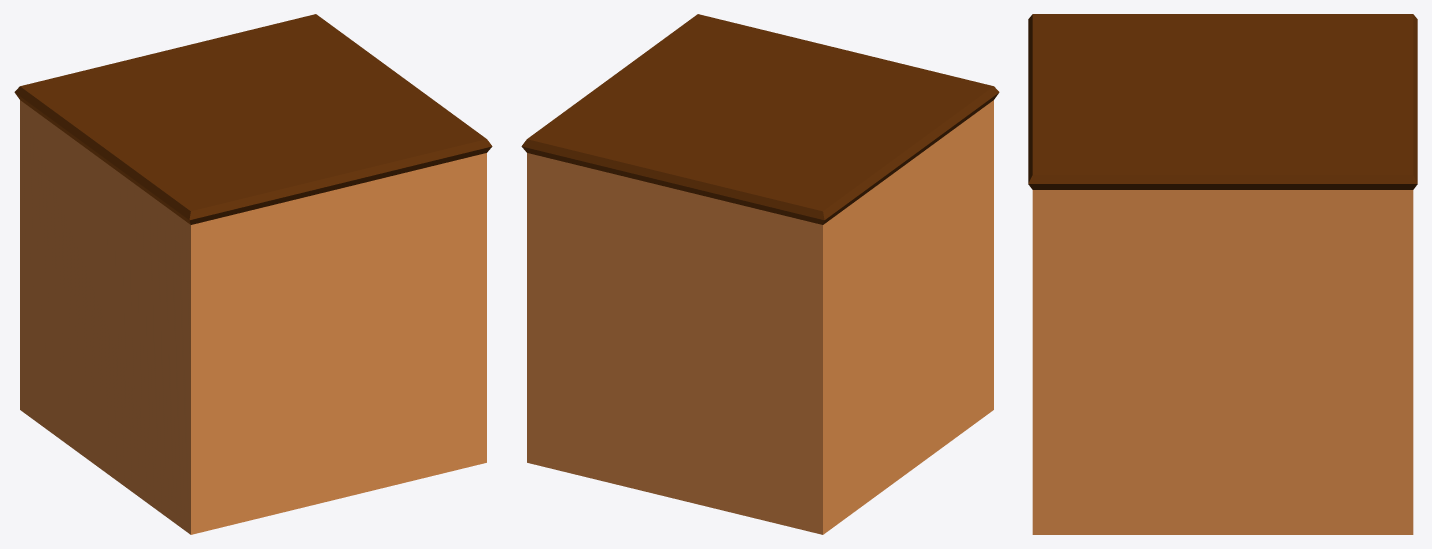
File: Counter.fbx
3 views of the same model, side by side, from view 1: azimuth 30°, elevation 25°; view 2: azimuth 150°, elevation 25°; view 3: azimuth 270°, elevation 25° (orthographic). The views are drawn at different scales.
Parts seen in each view (by area): view 1: Counter; view 2: Counter; view 3: Counter.
Boxes of the visible parts, bbox=[...] form: Counter: bbox=[14, 14, 492, 534]; Counter: bbox=[521, 14, 999, 534]; Counter: bbox=[1028, 14, 1417, 534].
Bounding box in the file's own units: 205 × 209 × 205.
